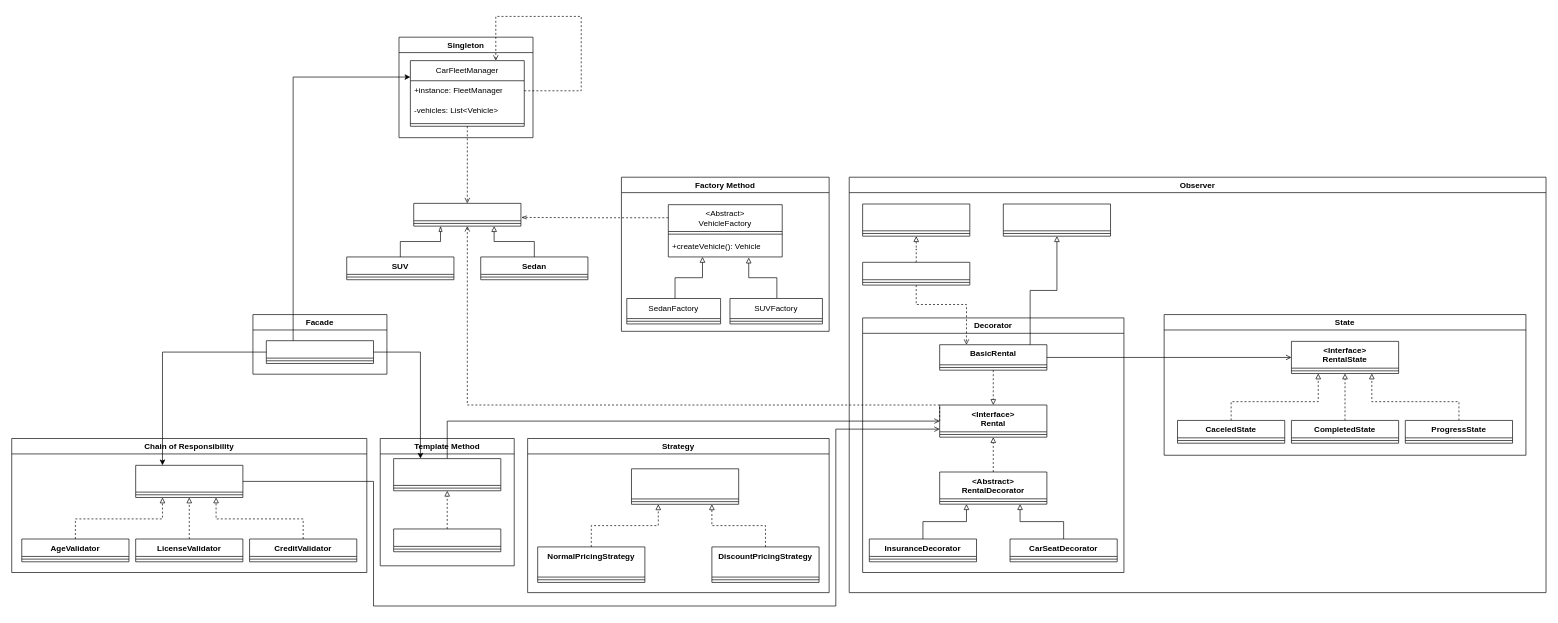
Image size: 1558x623. Some labels were removed from this diagram. Each missing label, with the centre of its shape:
<Abstract> Observable: (x=1057, y=219)
<Interface> Observer: (x=916, y=219)
<Interface> PricingStrategy: (x=685, y=486)
<Interface> RentalProcess: (x=447, y=474)
<Interface> RentalValidator: (x=189, y=481)
Cliente: (x=916, y=273)
OnlineRentalProcess: (x=447, y=540)
RentalFacade: (x=320, y=351)
Vehicle: (x=467, y=214)
